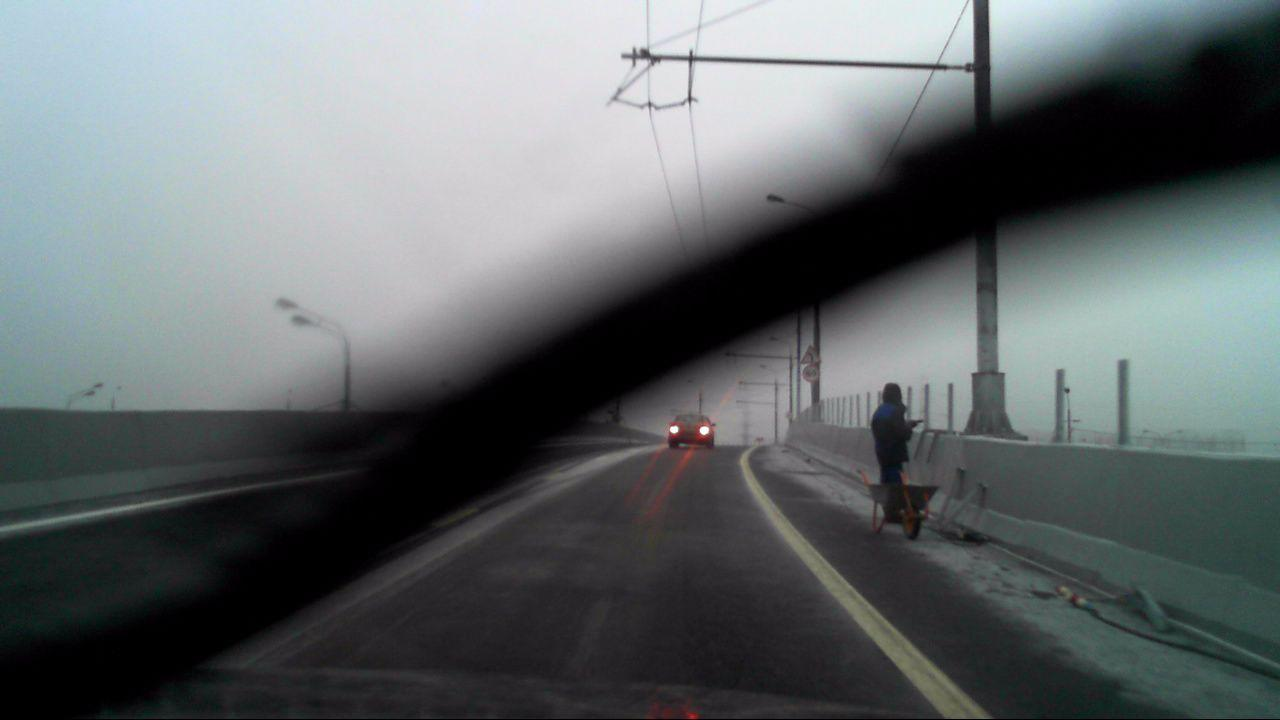road_sign: (799, 344, 823, 364)
